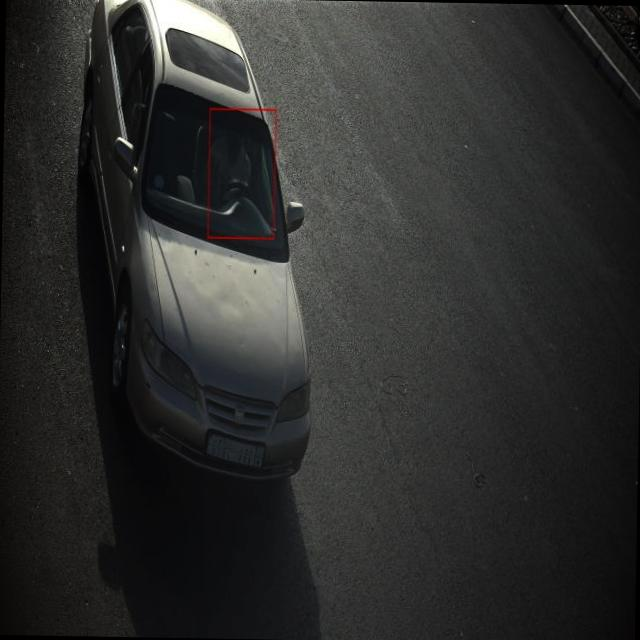person_without_seatbelt: (204, 124, 266, 218)
